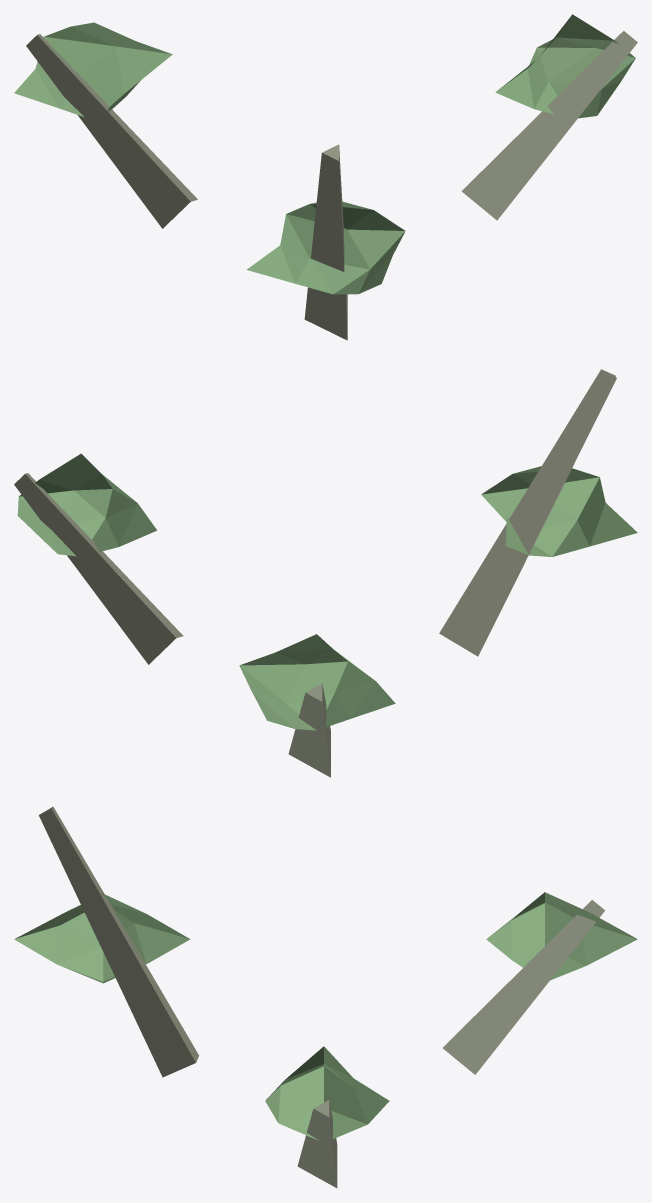
The model's file is bramble_v36.glb.
3 views of the same model, one above another, from view 1: azimuth 30°, elevation 25°; view 2: azimuth 150°, elevation 25°; view 3: azimuth 270°, elevation 25° (orthographic). The views are drawn at different scales.
Parts seen in each view (by area): view 1: lod0; view 2: lod0; view 3: lod0.
Part boxes in pixels (x1=…): lod0: x1=14, y1=14, x2=637, y2=340; lod0: x1=14, y1=369, x2=637, y2=777; lod0: x1=14, y1=806, x2=637, y2=1188.
Size of what is drawn, in the model's own units: 0.513 by 0.2511 by 0.5874.
